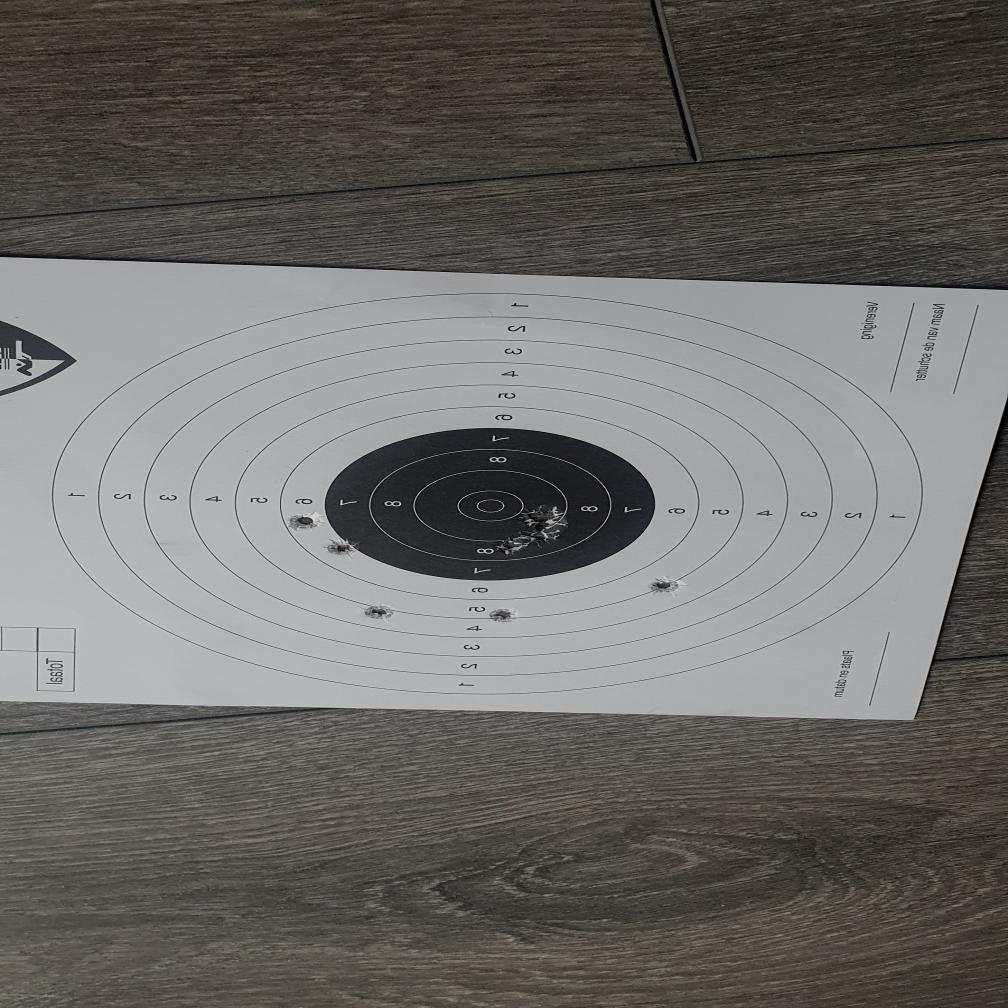5: (357, 602, 399, 622), (647, 576, 689, 596), (485, 607, 523, 624)
6: (286, 512, 328, 531)
7: (320, 538, 365, 558)
9: (518, 506, 568, 529), (515, 526, 562, 546), (494, 539, 530, 556)
Target: (45, 292, 928, 698)
black_contour: (324, 427, 655, 581)
